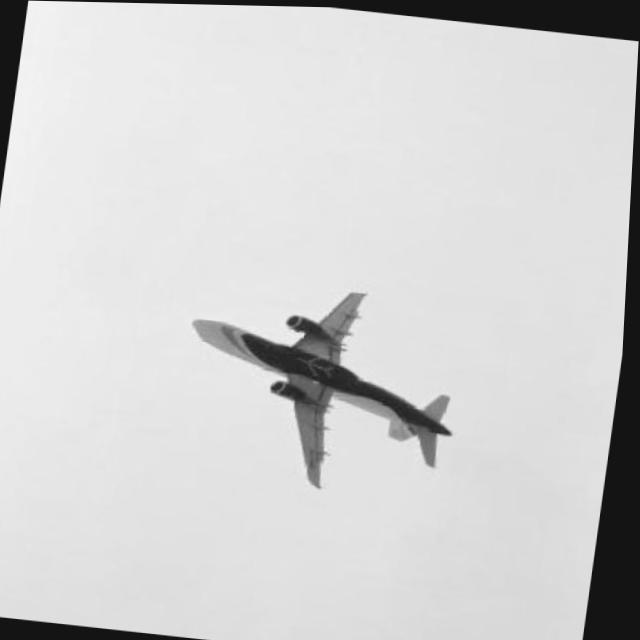aeroplane: (171, 266, 480, 506)
